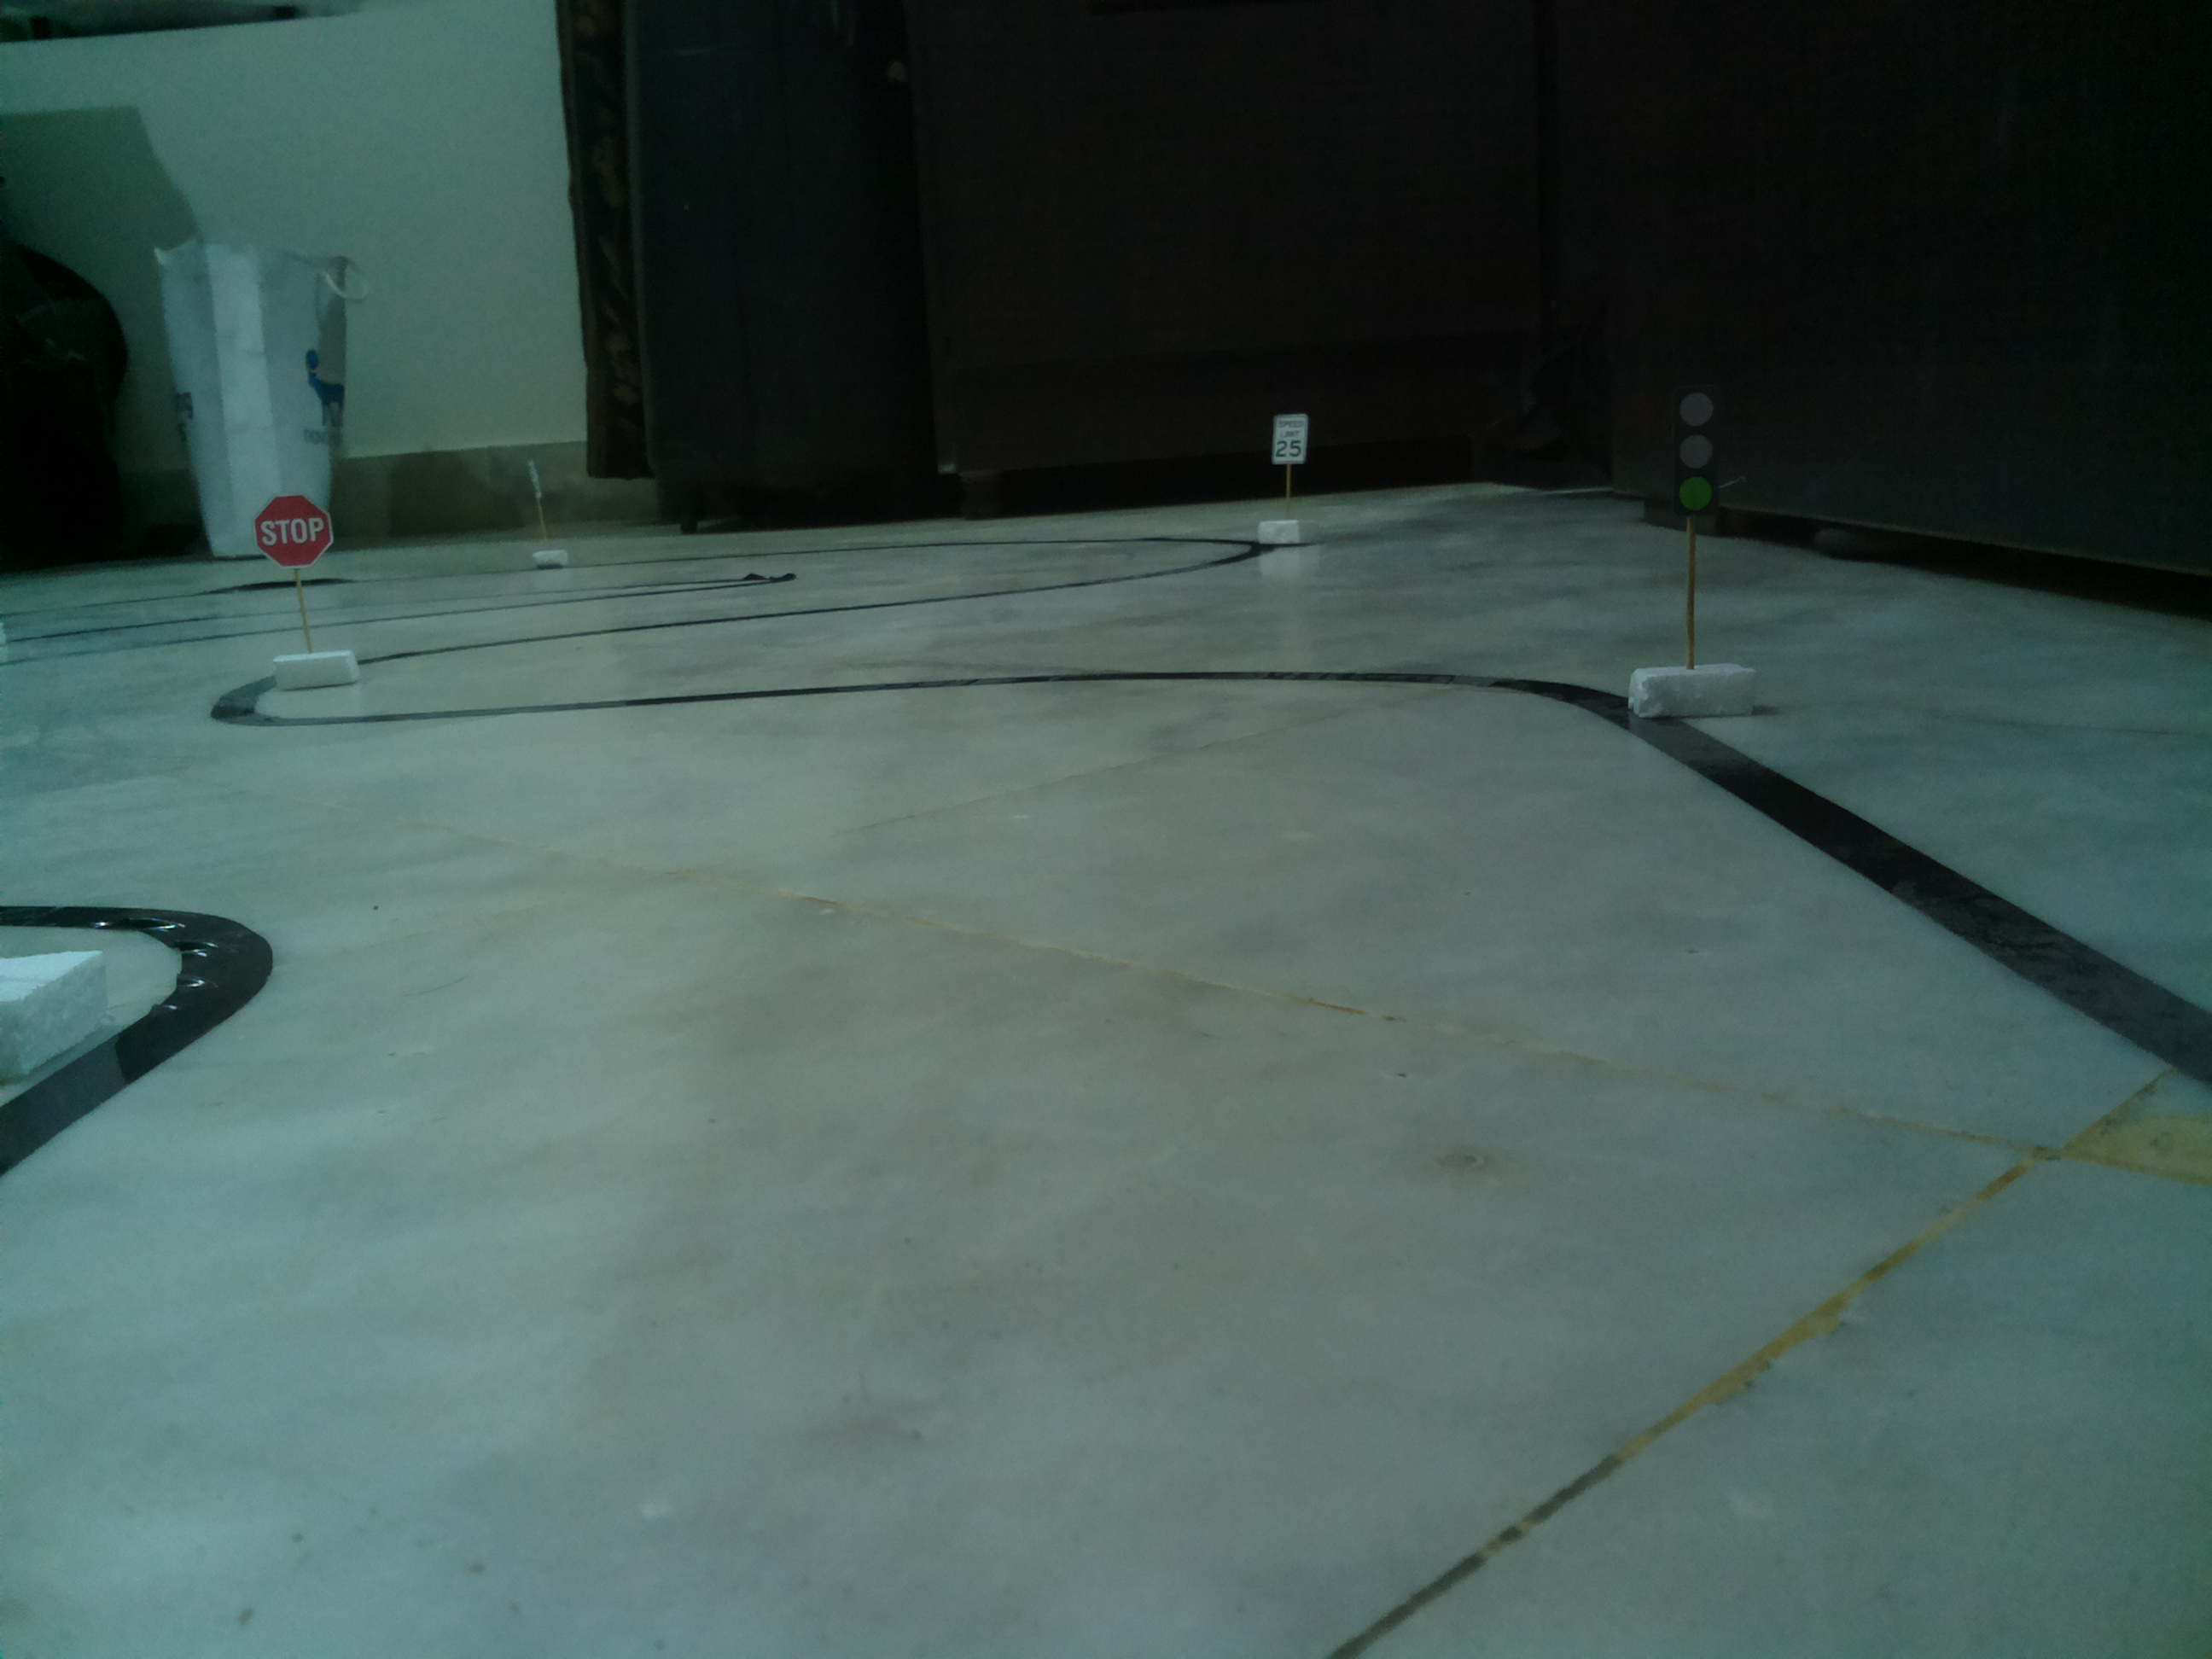Green traffic light: (1667, 378, 1730, 526)
Stop sign: (249, 495, 341, 572)
